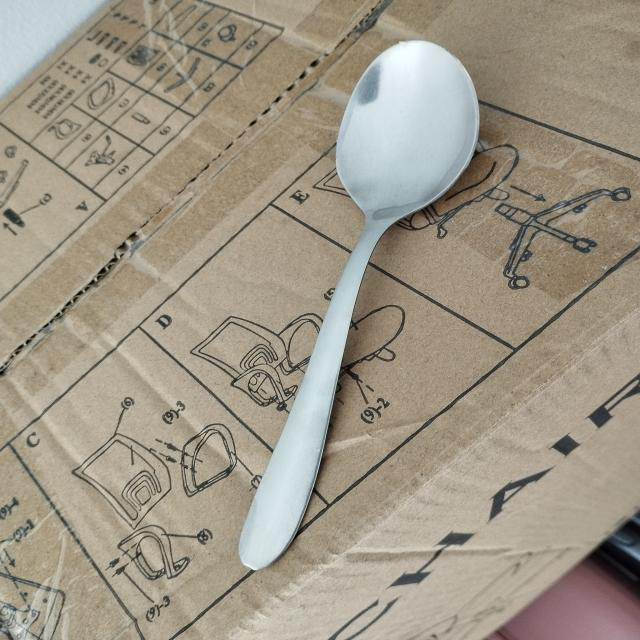Spoon: (202, 32, 494, 582)
